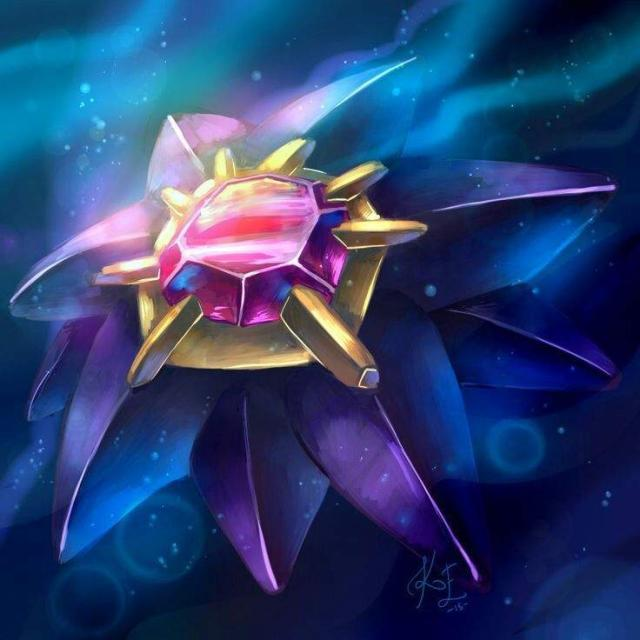Starmie: (51, 100, 478, 535)
